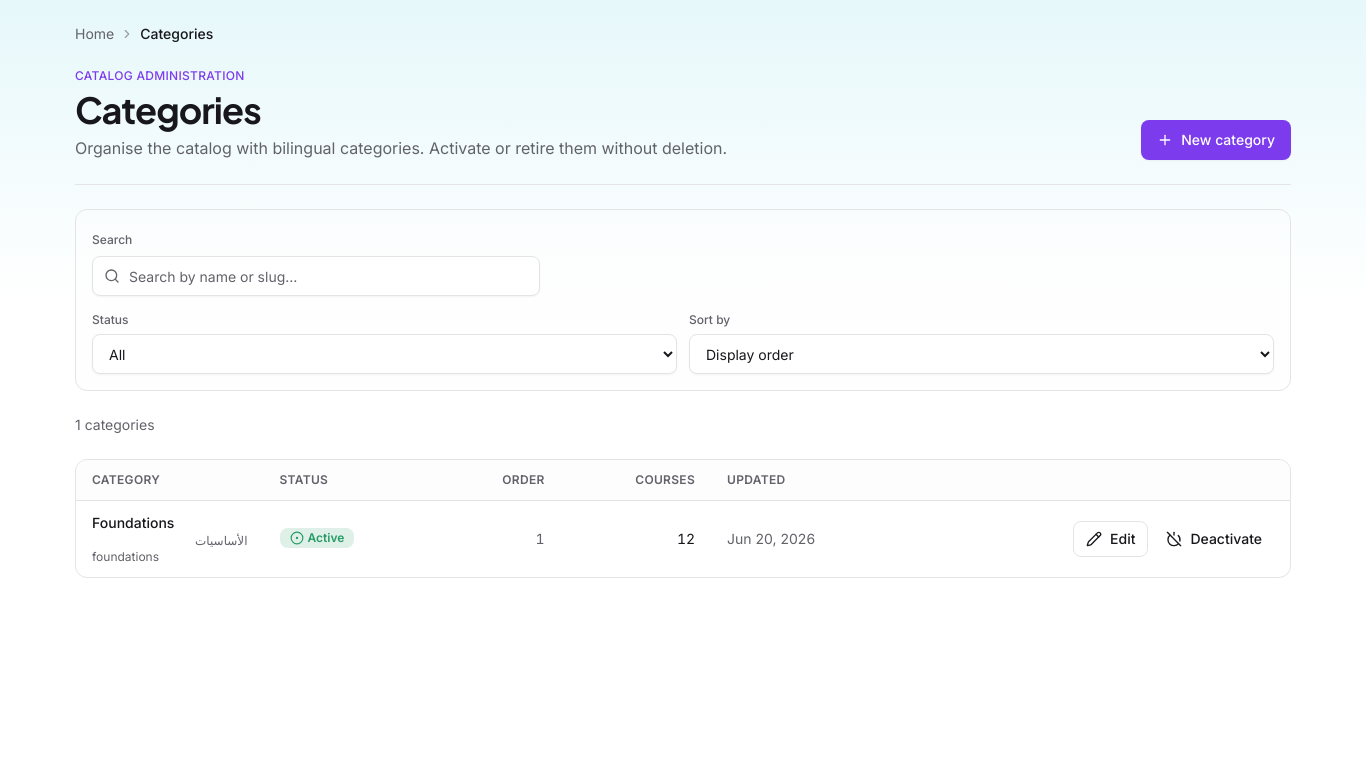
CategoriesListView › shows a safe concurrency message on a 409 deactivate conflict
Click the button with aria-label "Deactivate Foundations": (1214, 539) [1154, 521, 1274, 557]
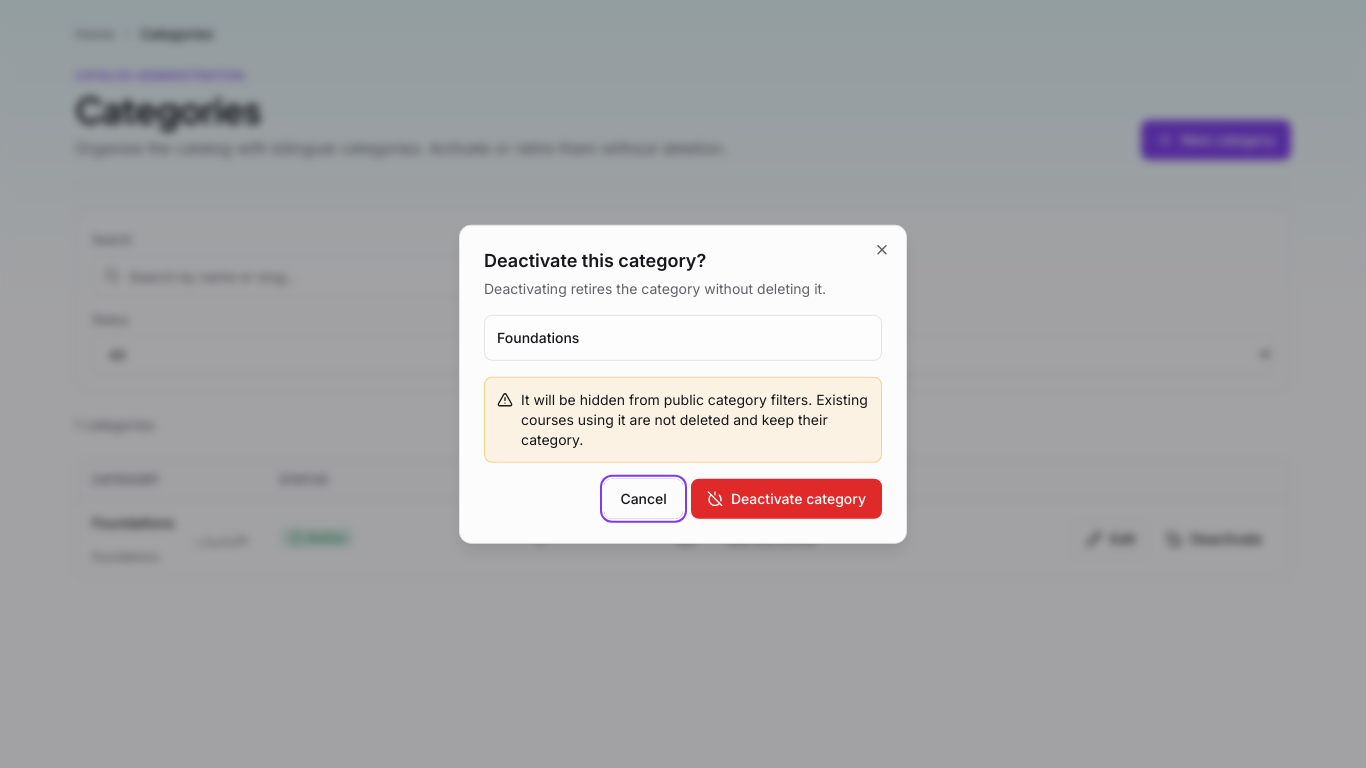
Click the button "Deactivate category": (786, 498) [691, 478, 882, 518]
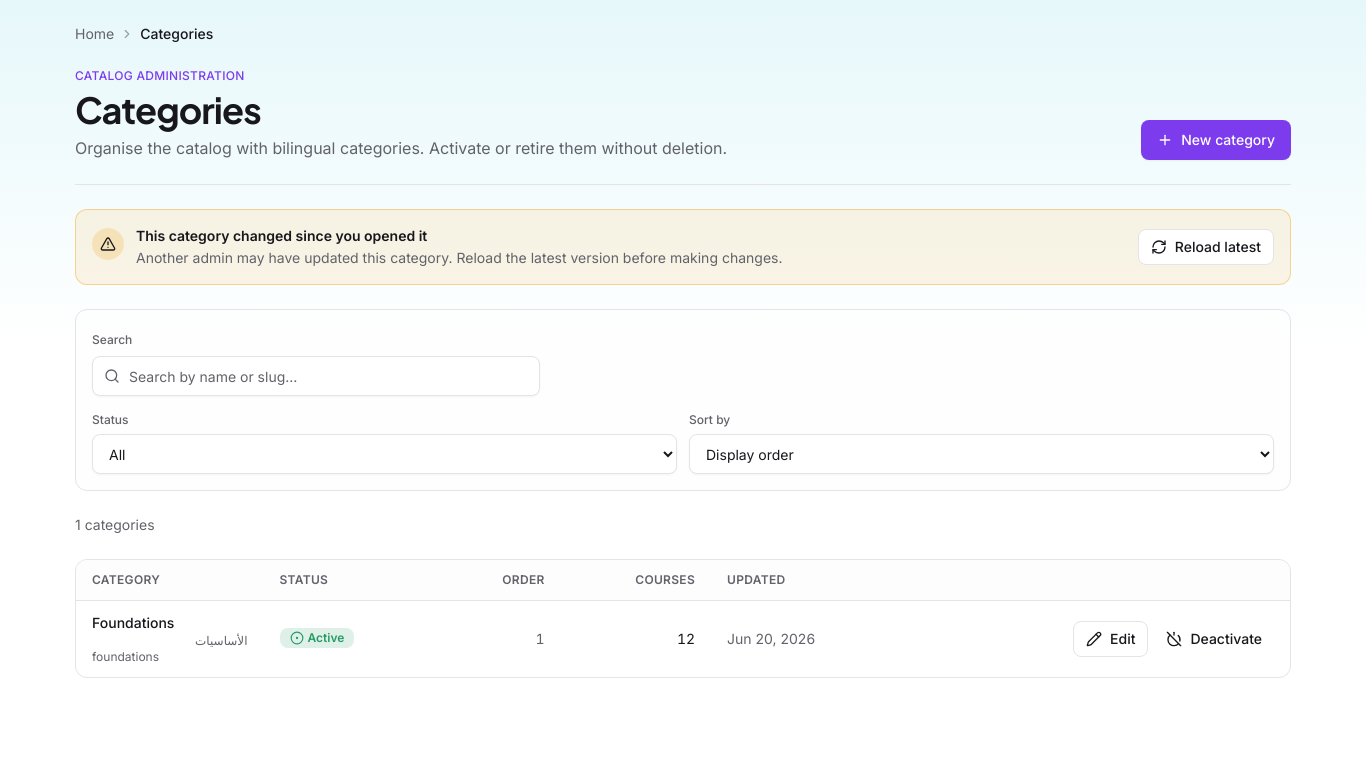
Now the text "This category changed since you opened it" is shown, box [136, 227, 427, 244]
